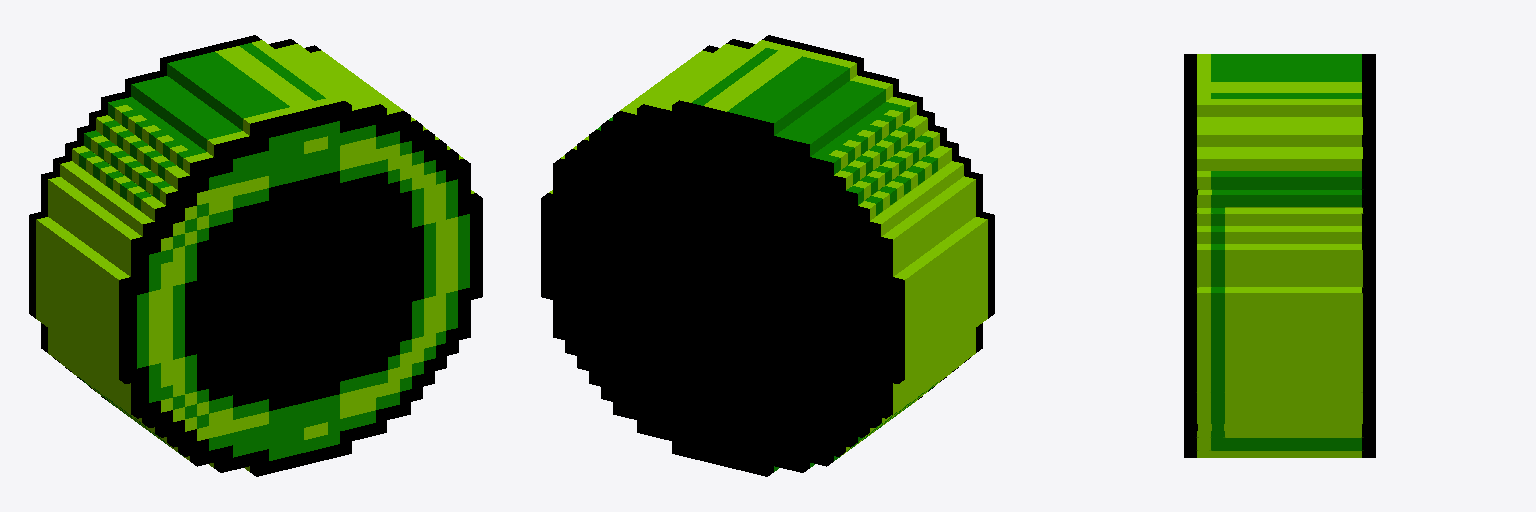
The picture shows the model from 3 angles: view 1: azimuth 30°, elevation 25°; view 2: azimuth 150°, elevation 25°; view 3: azimuth 270°, elevation 25°; orthographic projection.
Visible parts, largest first — view 1: pipe_top_pipe_top.001; view 2: pipe_top_pipe_top.001; view 3: pipe_top_pipe_top.001.
Boxes of the visible parts, box(x1,y1,x2,y2) form: pipe_top_pipe_top.001: box(29, 35, 482, 476); pipe_top_pipe_top.001: box(541, 35, 994, 476); pipe_top_pipe_top.001: box(1184, 54, 1375, 457).
Bounding box in the file's own units: 300 × 280 × 140.
1 materials, 1 textured.